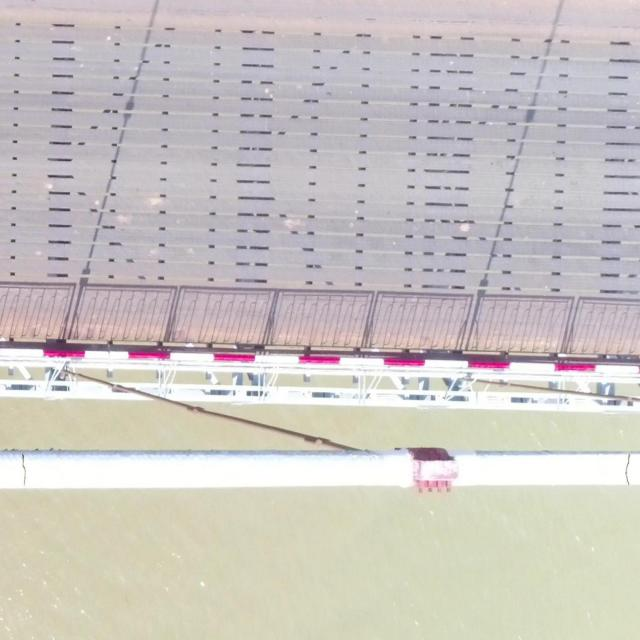crack: (20, 450, 27, 487), (624, 454, 630, 486)
